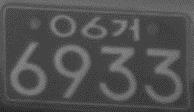0: (49, 13, 77, 37)
3: (143, 47, 184, 105), (98, 44, 137, 101)
6: (9, 41, 47, 97), (80, 15, 108, 40)
9: (53, 43, 93, 98)
거: (110, 17, 139, 41)
